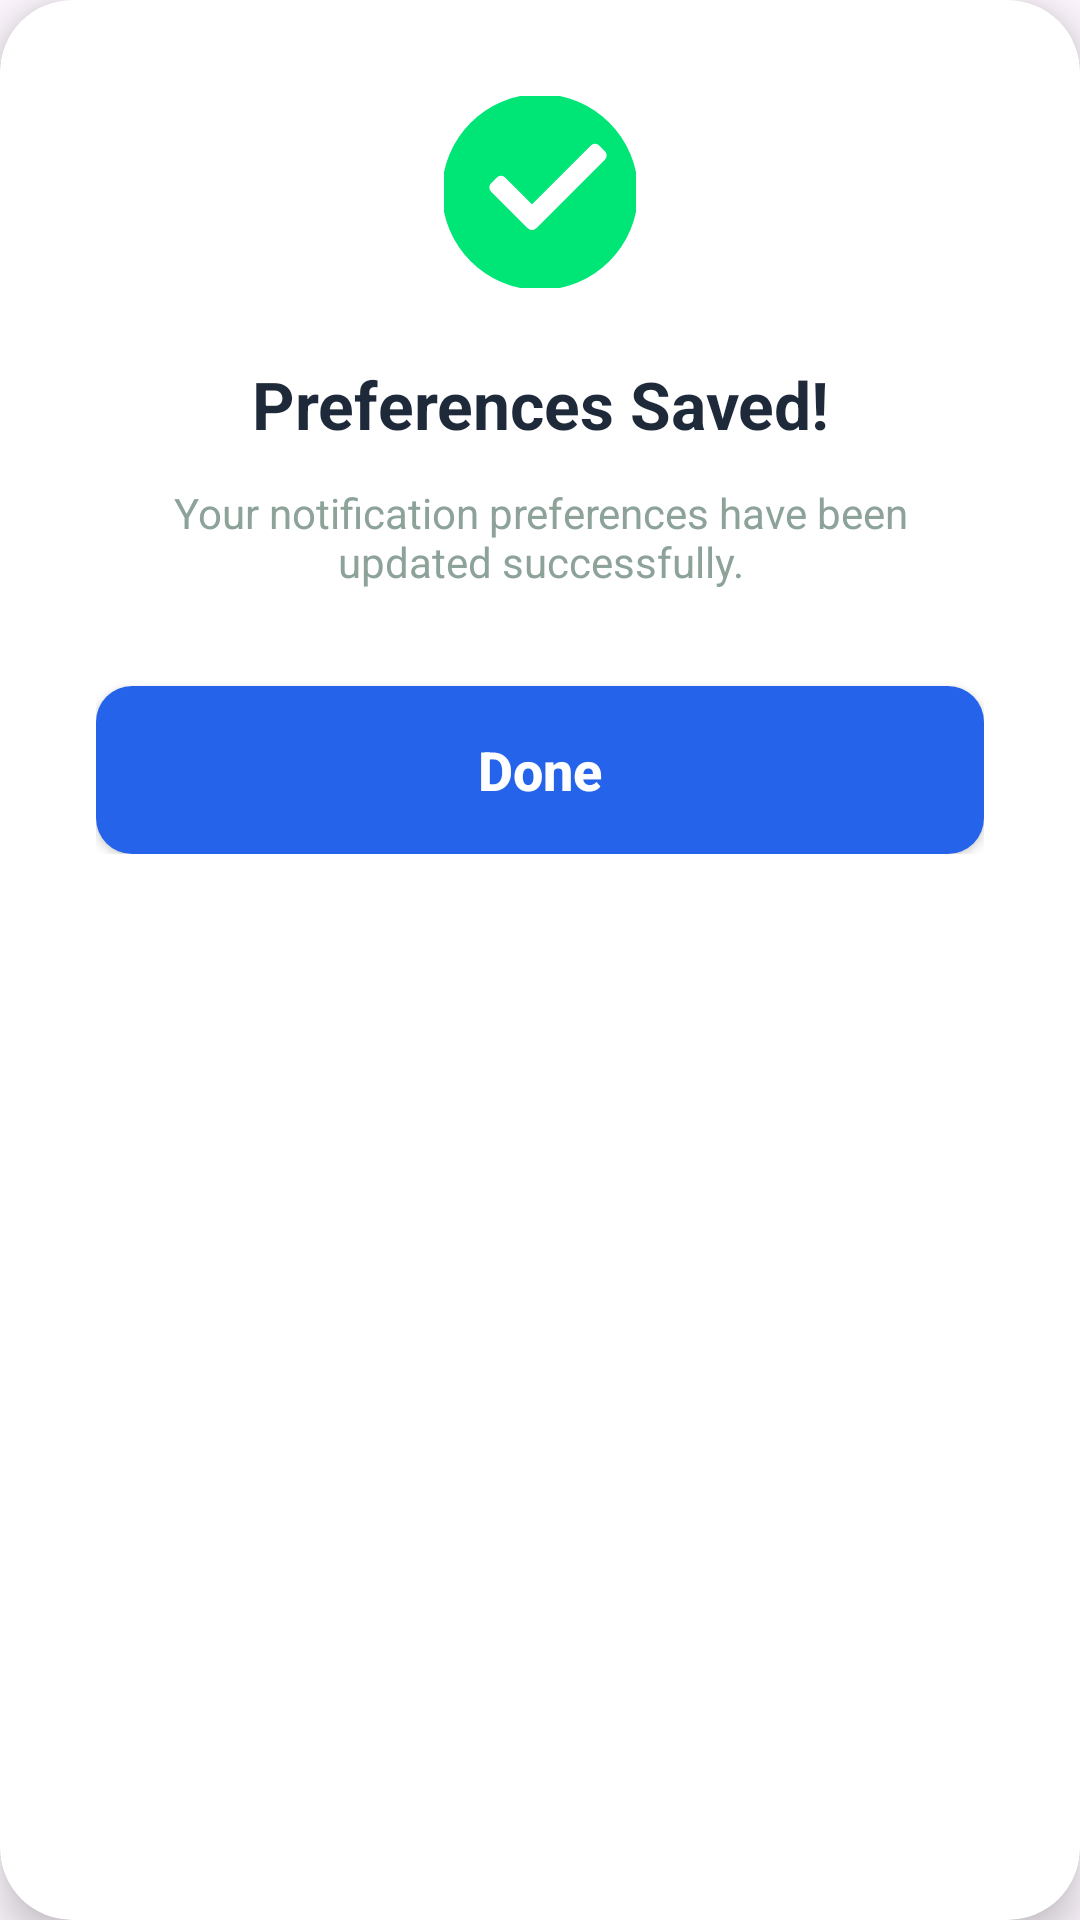

Where icons sit on this 1080px×1920px app screen, as (x1, y1, x2, y2):
check circle: (444, 96, 636, 288)
